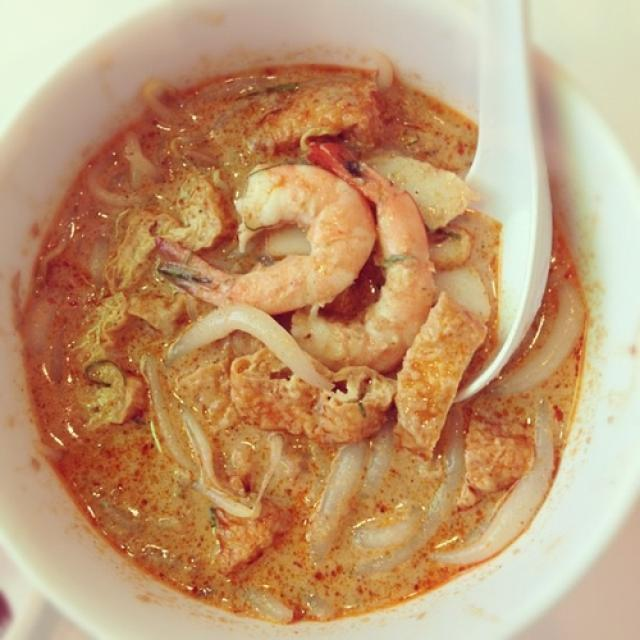面条主食: (15, 26, 608, 628)
